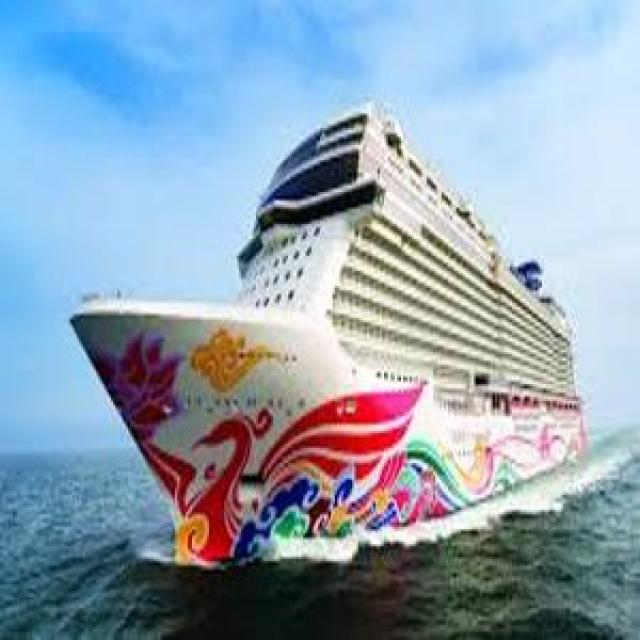passenger ship: (67, 93, 595, 565)
